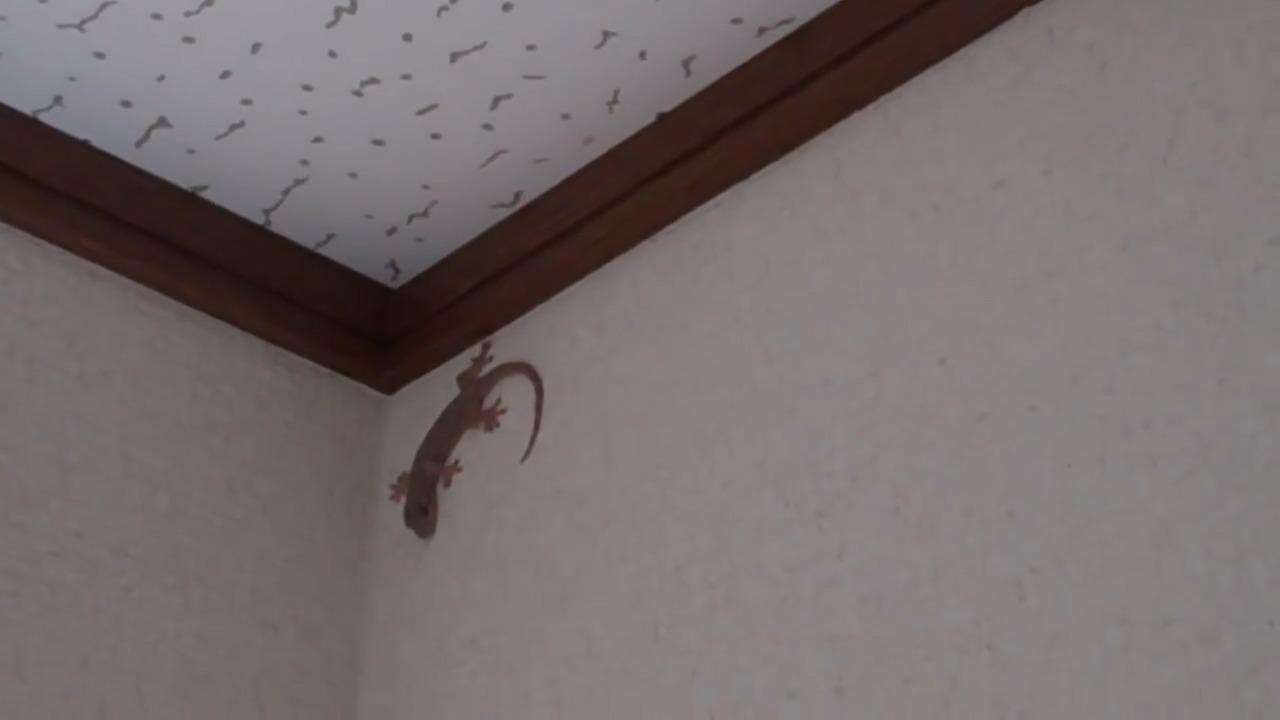lizard: (370, 322, 550, 536)
